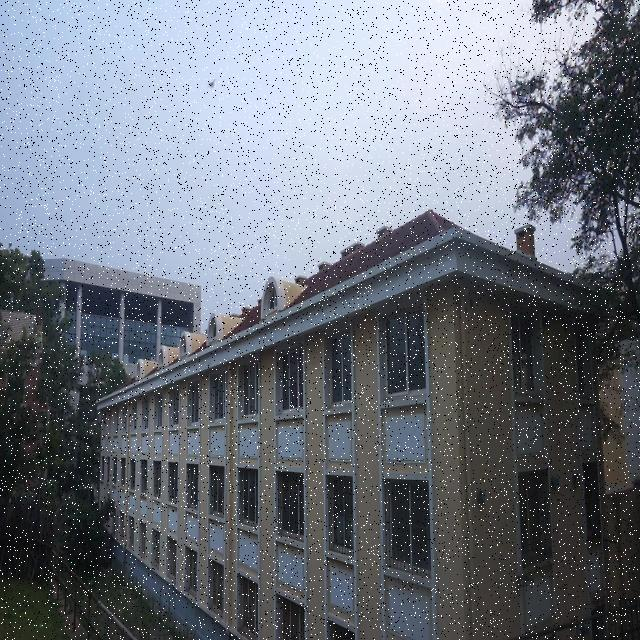UAV: (208, 78, 217, 90)
